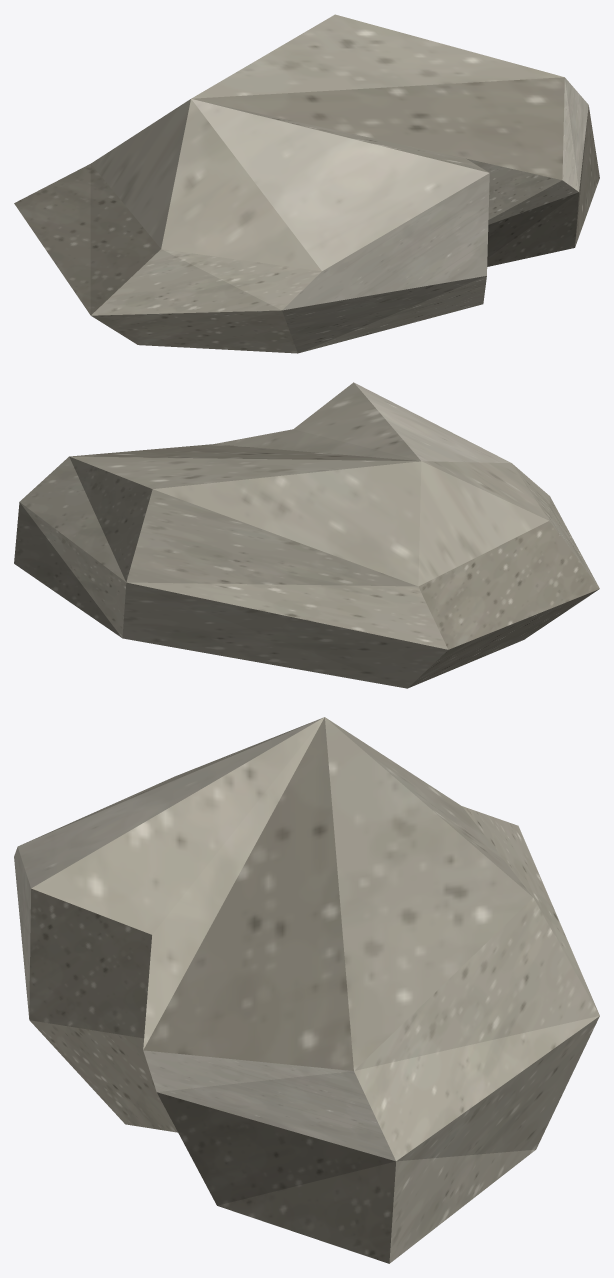
File: debris_concrete_spall.glb
3 renders of one model, top to bottom at view 1: azimuth 30°, elevation 25°; view 2: azimuth 150°, elevation 25°; view 3: azimuth 270°, elevation 25°, orthographic. The views are drawn at different scales.
Parts seen in each view (by area): view 1: Concrete Spall; view 2: Concrete Spall; view 3: Concrete Spall.
Part boxes in pixels (x1,y1,x2,y2): Concrete Spall: [14, 14, 599, 353]; Concrete Spall: [14, 382, 599, 688]; Concrete Spall: [14, 717, 599, 1263].
Size of the model in its own units: 0.1746 by 0.058 by 0.115.
1 material, 1 textured.
